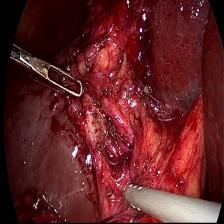Grasper: (10, 29, 86, 110)
Irrigator: (121, 179, 155, 215)
